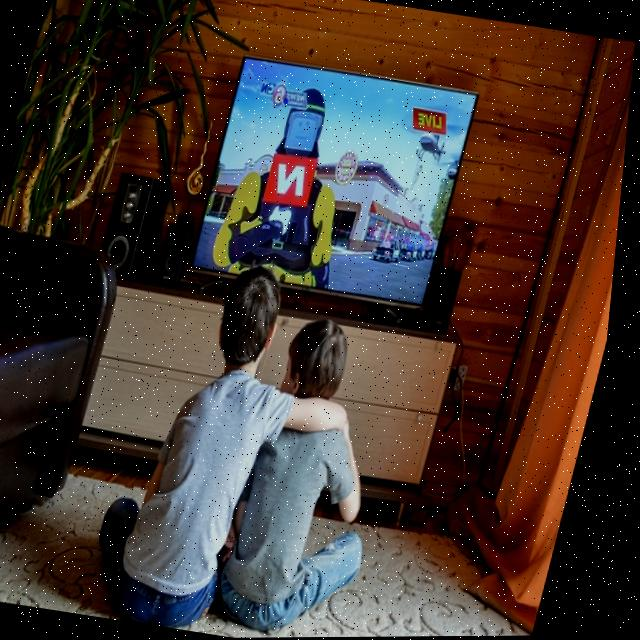tv-person: (90, 13, 505, 639)
